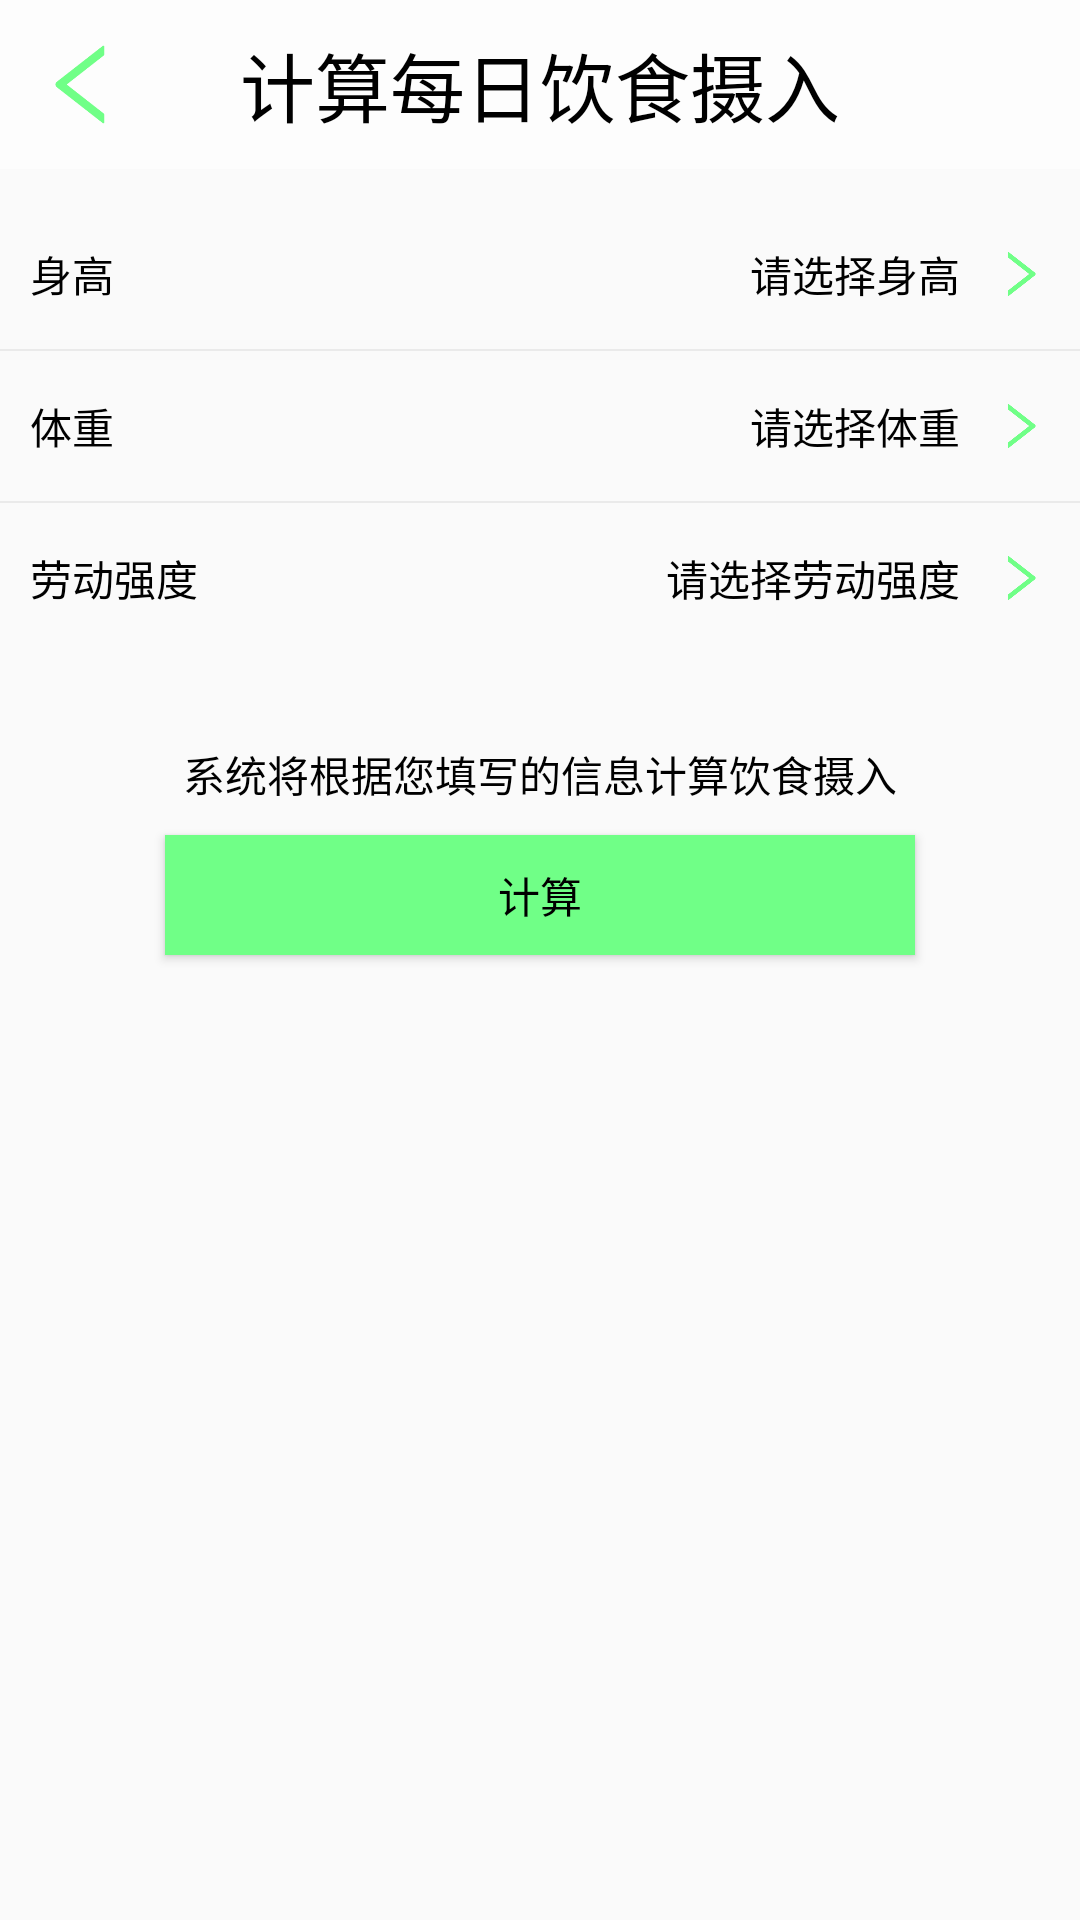

Locate icon controls on the screen. Image size 1080*1920, boxes as (x1=x1, y1=y1, x2=x2, y2=y2).
back left: (x1=55, y1=45, x2=105, y2=124)
right: (x1=1008, y1=252, x2=1036, y2=296), (x1=1008, y1=404, x2=1036, y2=448), (x1=1008, y1=556, x2=1036, y2=600)
